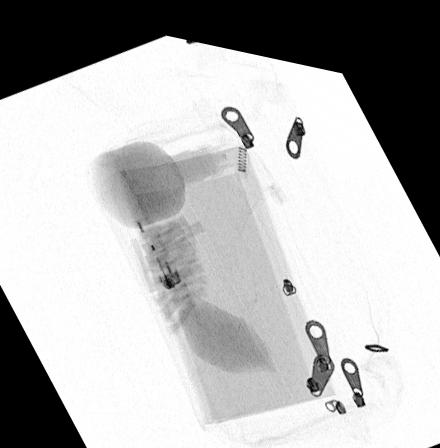Lighter: (133, 209, 181, 284)
